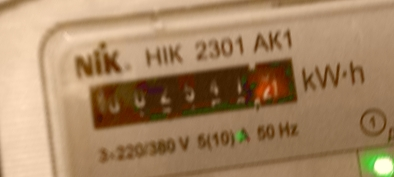0: (103, 88, 124, 116), (130, 82, 147, 110)
1: (229, 67, 245, 96)
2: (154, 78, 173, 105)
4: (205, 71, 221, 96)
5: (178, 74, 200, 104)
6: (258, 81, 275, 100)
screen: (74, 42, 314, 142)
